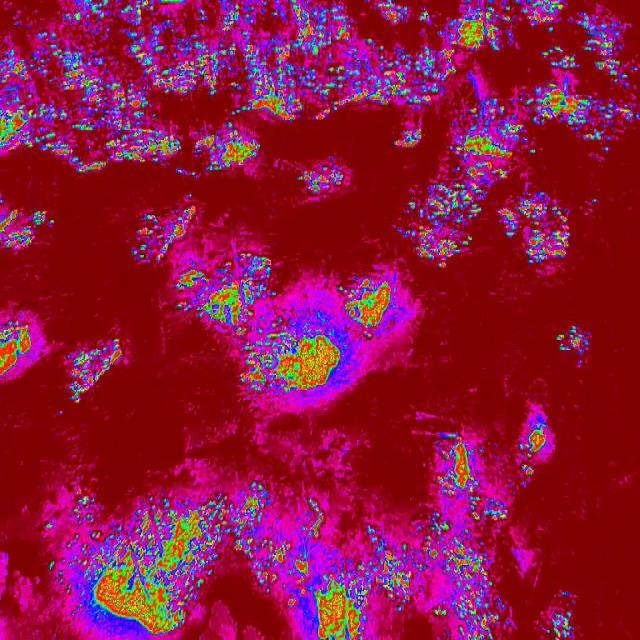fire: (49, 487, 576, 640), (0, 0, 260, 178), (174, 251, 409, 398), (411, 0, 640, 148), (403, 148, 573, 280), (261, 0, 437, 124), (135, 203, 199, 262), (68, 340, 126, 404), (432, 431, 496, 488), (0, 198, 49, 252), (299, 156, 352, 204), (512, 412, 556, 466), (0, 309, 37, 372), (557, 322, 593, 366)
